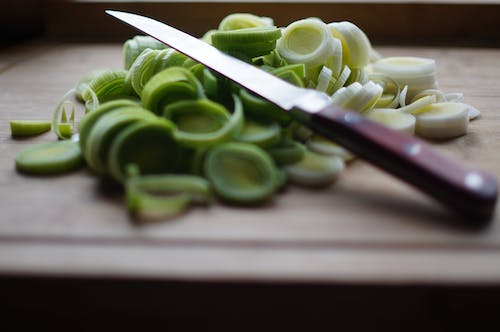knife: (105, 9, 500, 230)
